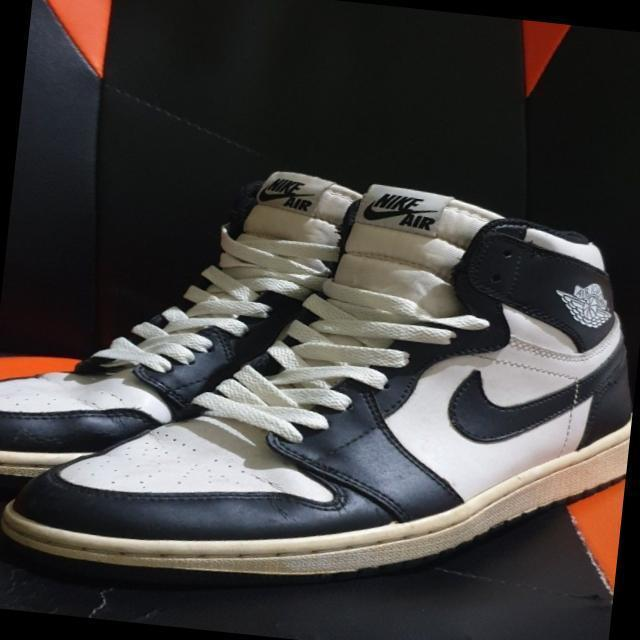nike fake jordan 1: (0, 150, 640, 636), (0, 142, 417, 513)
